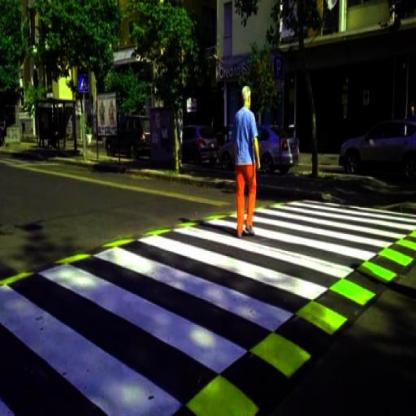crosswalk: (34, 241, 302, 382)
